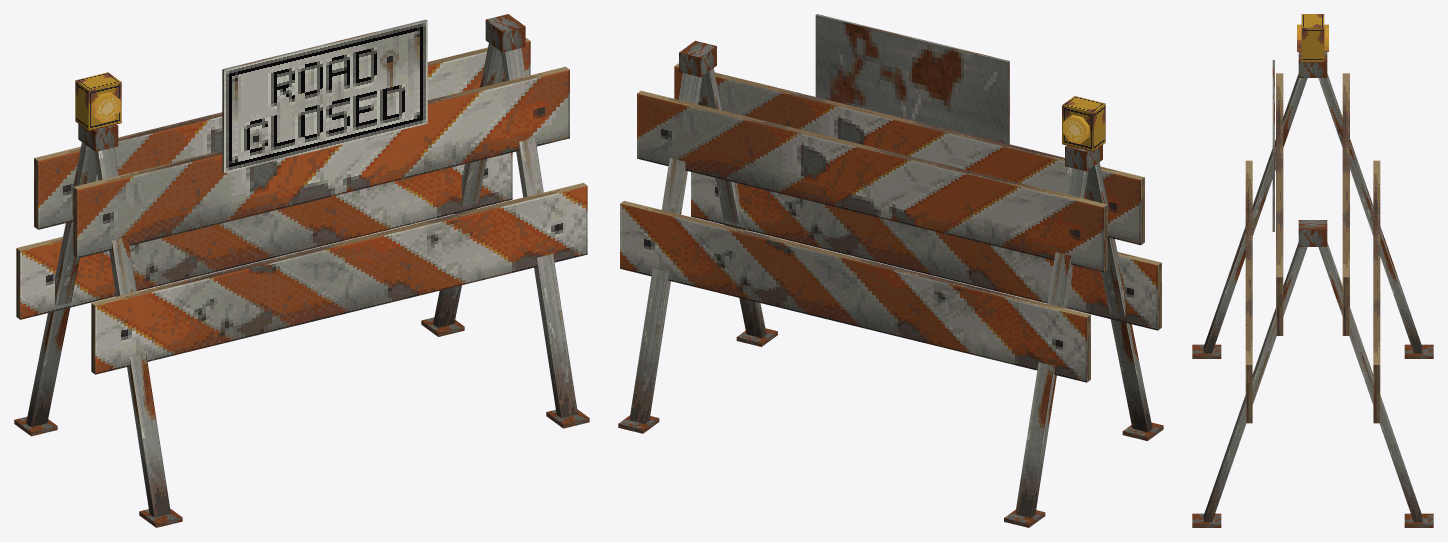
Rendered from road_barrier.glb.
3 renders of one model, left to right at view 1: azimuth 30°, elevation 25°; view 2: azimuth 150°, elevation 25°; view 3: azimuth 270°, elevation 25°, orthographic. The views are drawn at different scales.
Visible parts, largest first — view 1: road_barrier; view 2: road_barrier; view 3: road_barrier.
Part boxes in pixels (x1,y1,x2,y2): road_barrier: (14, 14, 589, 527); road_barrier: (618, 14, 1163, 527); road_barrier: (1192, 14, 1433, 527).
Size of the model in its own units: 1.5 by 1.15 by 0.75.
2 materials, 2 textured.
